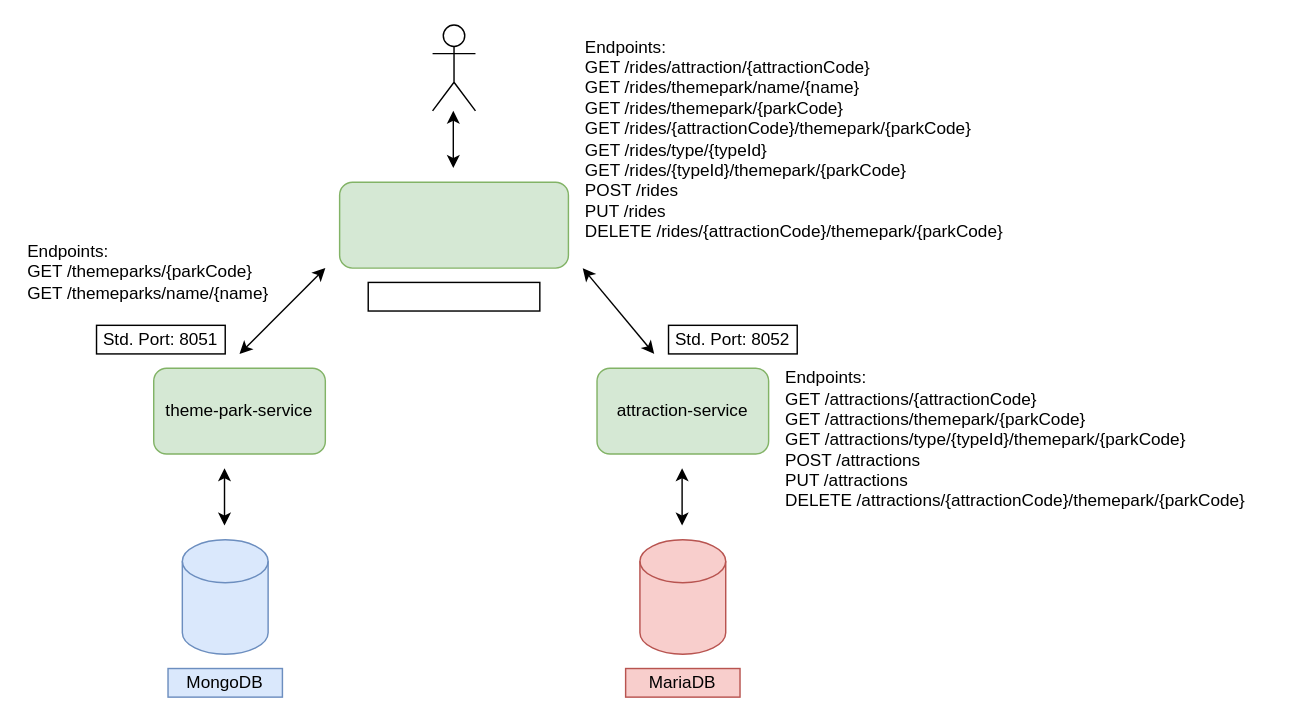
Image size: 1293x722. Some labels were removed from this diagram. Here are the shapes that lost their labels. From the top down, the centre of each, then its label:
At point 453,224: "parkrides-edge-service".
At point 453,296: "Std. Port: 8050".
